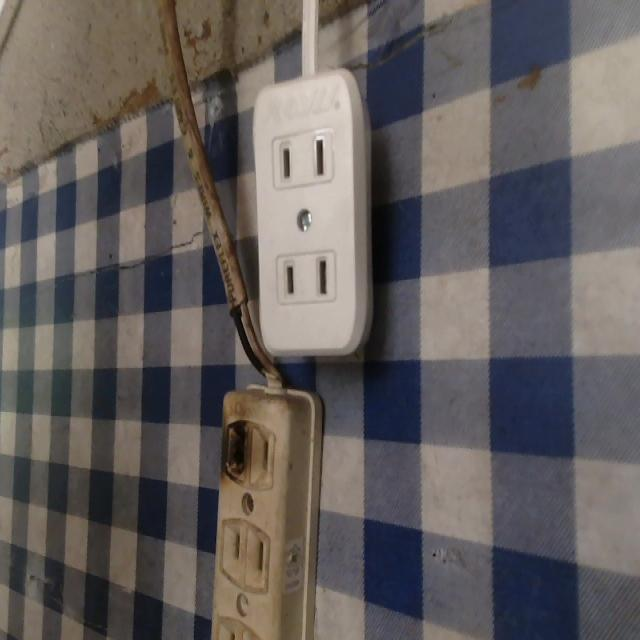-: (216, 413, 261, 487)
